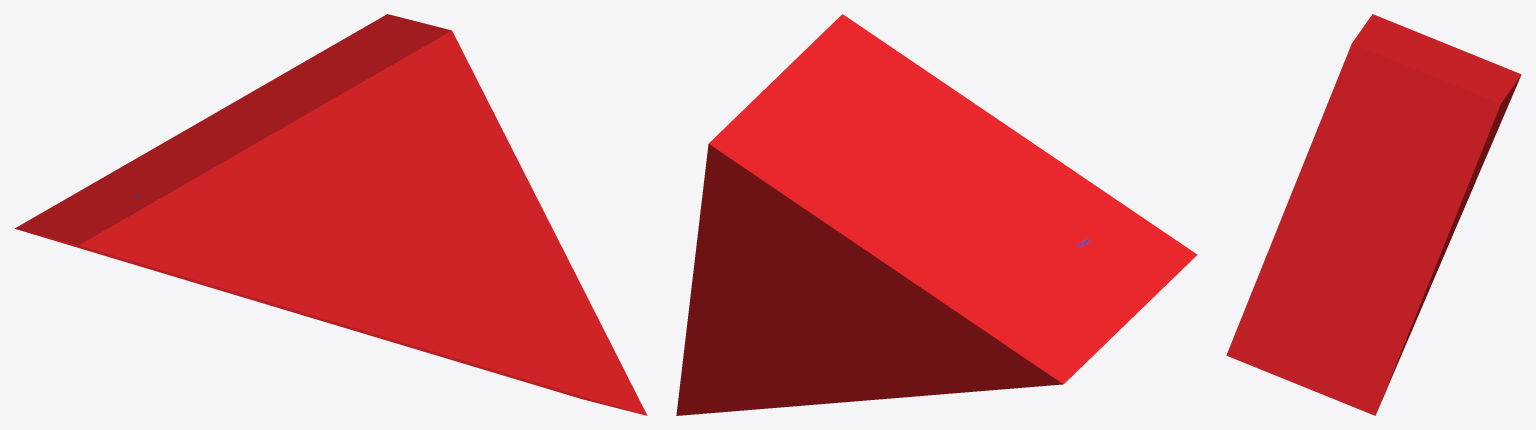
File: dreieck1.fbx
The picture shows the model from 3 angles, left to right: view 1: azimuth 30°, elevation 25°; view 2: azimuth 150°, elevation 25°; view 3: azimuth 270°, elevation 25°; orthographic projection. The views are drawn at different scales.
Visible parts, largest first — view 1: node_id4; view 2: node_id4; view 3: node_id4.
Part boxes in pixels (x1,y1,x2,y2): node_id4: [14, 14, 647, 415]; node_id4: [676, 14, 1197, 415]; node_id4: [1226, 14, 1521, 415].
Size of the model in its own units: 0.6758 by 0.531 by 0.4471.
Materials: 1 (1 with a texture image).
